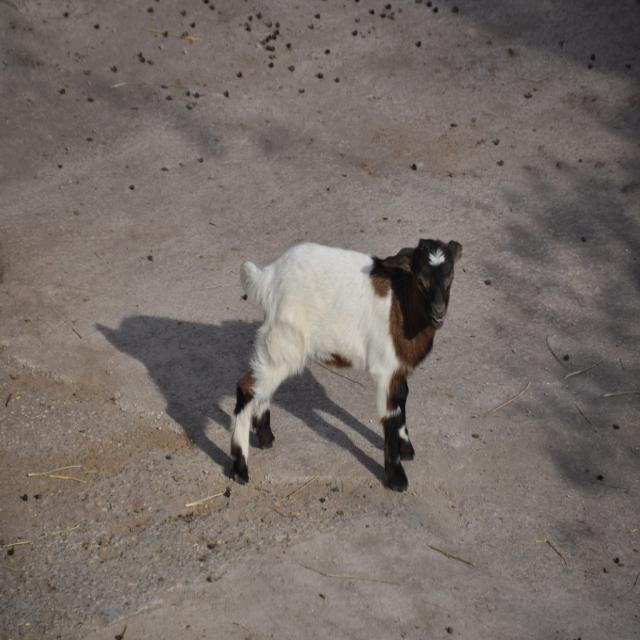Goat: (223, 223, 475, 507)
